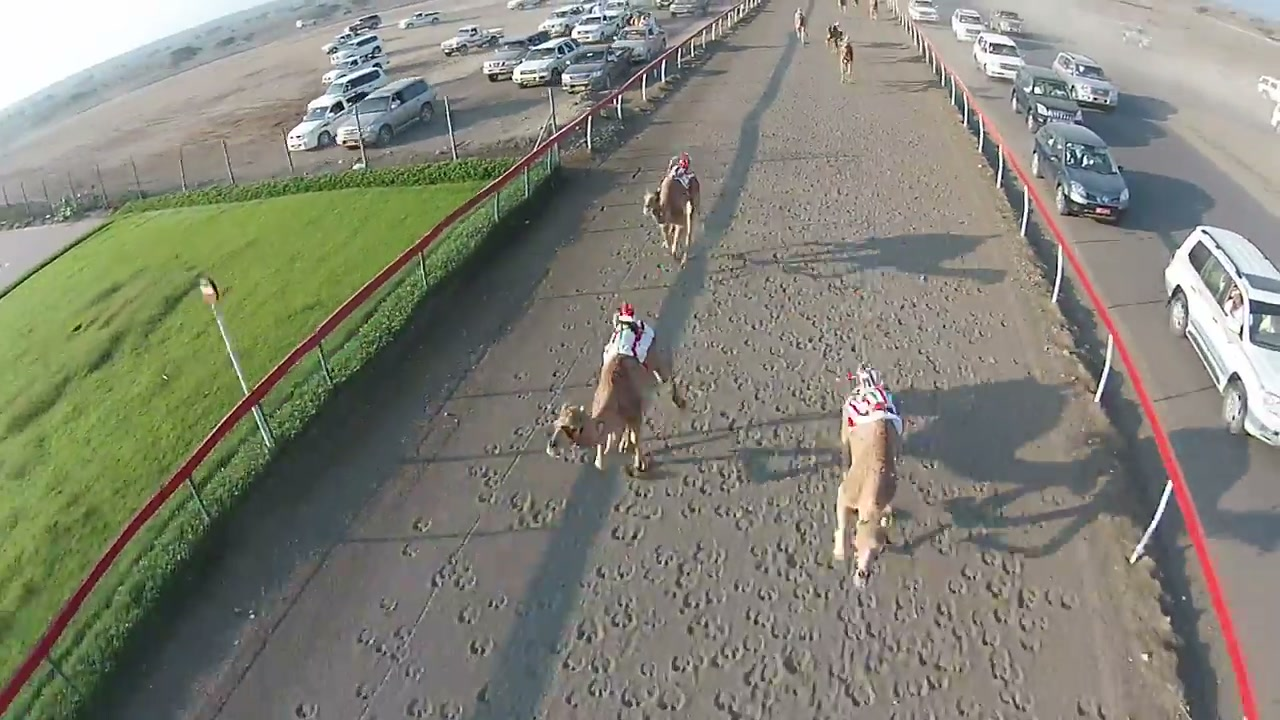animal_footprint: (579, 272, 1017, 719), (337, 306, 568, 719)
